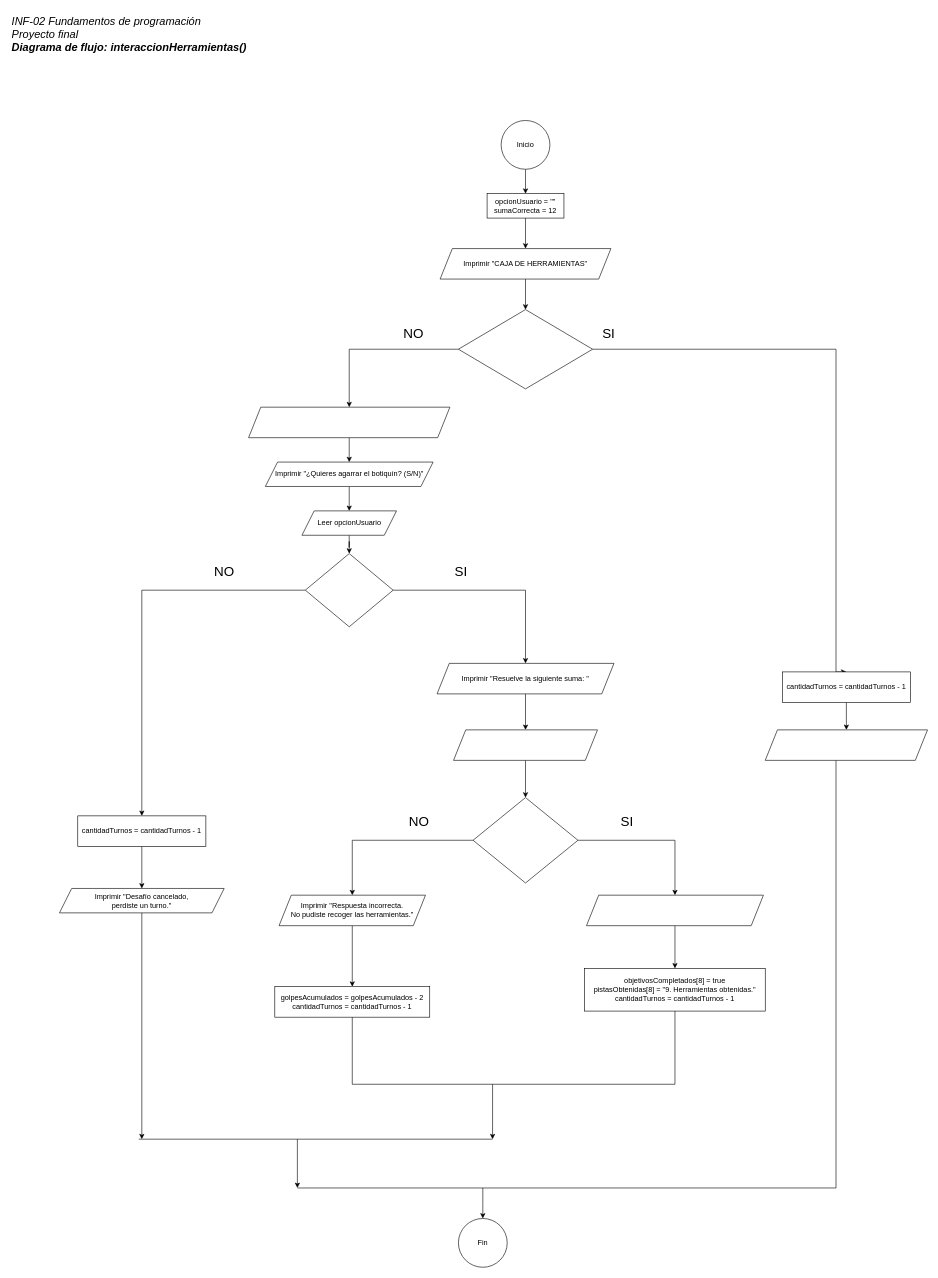
Some shapes in this 938 by 1278 pixel diagram are drawn without their labels. Here are the shapes that lost their labels. From the top down, the box of each, then its label:
(458, 309, 593, 389): objetivosCompletados[8] == true
(248, 407, 450, 438): Imprimir "Para recolectar las herramientas tienes que responder una pregunta"
(305, 553, 393, 627): opcionUsuario == "s"
(453, 729, 597, 760): Leer respuesta
(765, 729, 928, 760): Imprimir "Ya completaste esta interacción, perdiste un turno..."
(472, 797, 578, 883): respuesta == sumaCorrecta
(586, 895, 763, 926): Imprimir "¡Correcto! Recogiste las herramientas."
